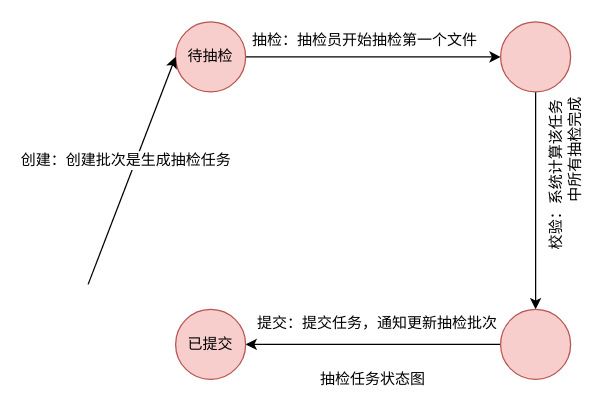
The diagram is 605 pixels wide and 414 high, and some of its shapes have lost their labels. The centre of each missing label's shape, as x and y in pixels:
"抽检中" goes at pixel 535 56.
"抽检完成" goes at pixel 535 343.
